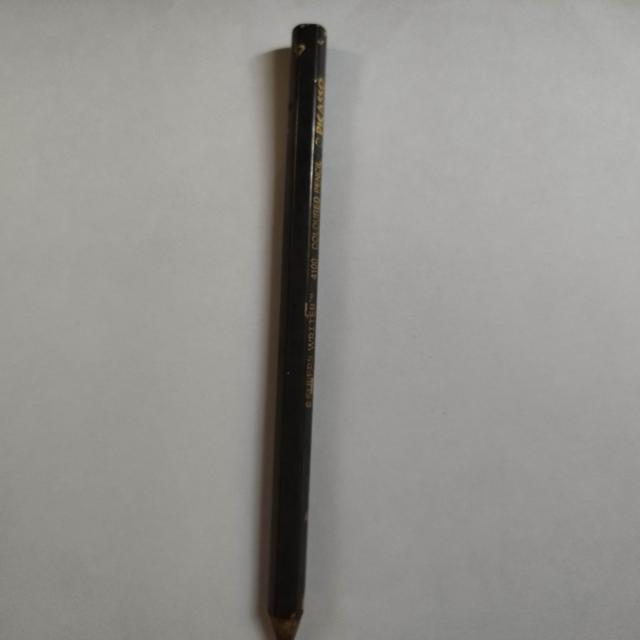pencil: (267, 23, 327, 639)
